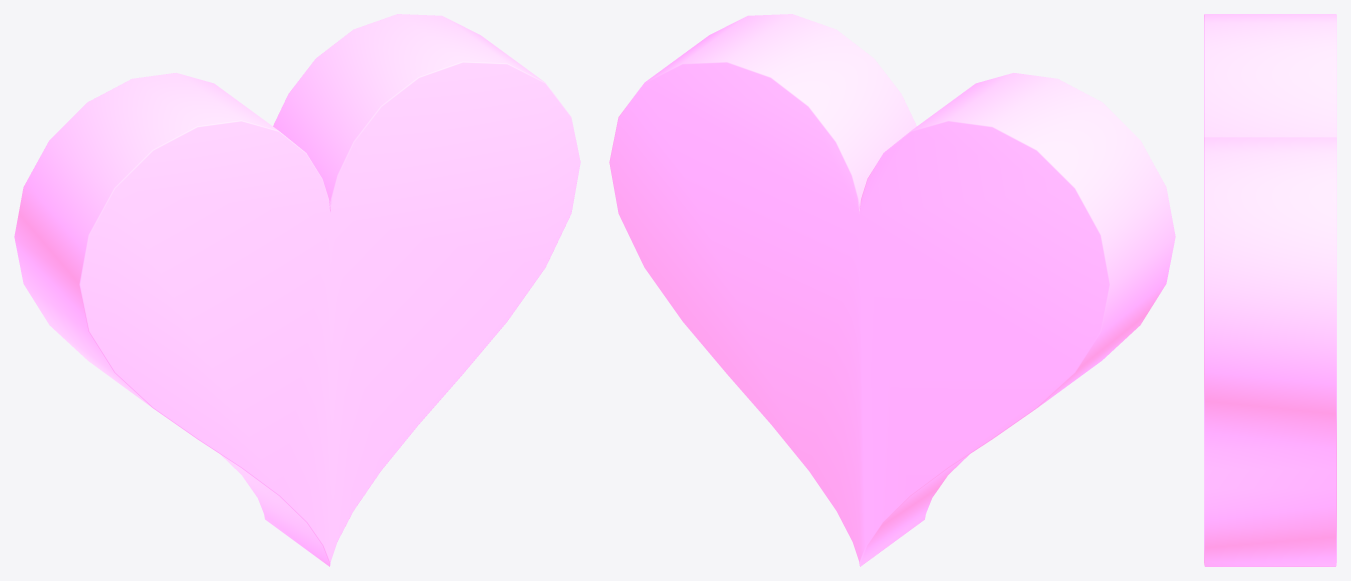
Rendered from heart.glb.
3 views of the same model, side by side, from view 1: azimuth 30°, elevation 25°; view 2: azimuth 150°, elevation 25°; view 3: azimuth 270°, elevation 25° (orthographic).
Visible parts, largest first — view 1: heart:mesh; view 2: heart:mesh; view 3: heart:mesh.
Part boxes in pixels (<box>): heart:mesh: <box>14,14,580,566</box>; heart:mesh: <box>609,14,1175,566</box>; heart:mesh: <box>1204,14,1336,566</box>.
Bounding box in the file's own units: 0.704 × 0.6349 × 0.16.
